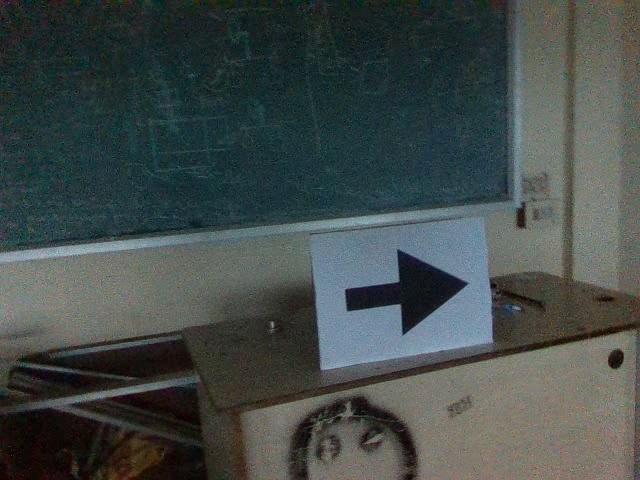Right: (343, 244, 473, 338)
